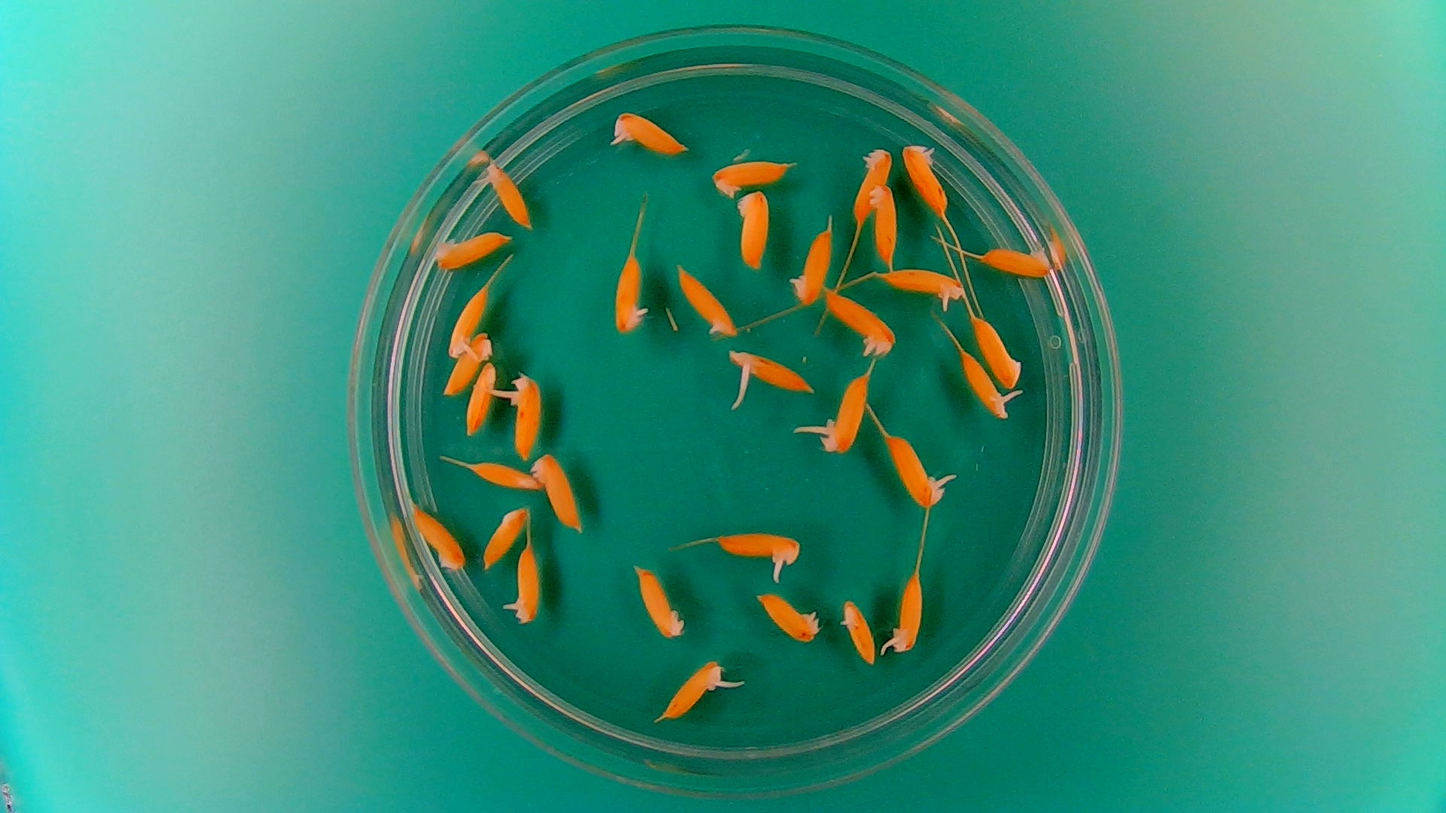no: (674, 260, 741, 339), (531, 447, 587, 532), (630, 560, 688, 642), (409, 499, 468, 571), (969, 312, 1024, 388), (786, 221, 833, 309), (899, 139, 949, 218), (753, 590, 822, 644), (707, 157, 794, 198), (441, 330, 493, 397), (850, 142, 893, 221), (734, 187, 773, 272), (480, 502, 528, 571), (437, 227, 515, 269), (978, 241, 1055, 280), (462, 358, 500, 437), (840, 595, 880, 667), (868, 177, 899, 266), (465, 459, 539, 494)
yes: (822, 287, 898, 358), (817, 367, 872, 455), (883, 430, 944, 508), (877, 265, 968, 311), (956, 349, 1012, 421), (660, 657, 725, 719), (725, 349, 818, 391), (444, 281, 492, 360), (504, 367, 544, 461), (885, 566, 925, 656), (484, 161, 535, 231), (502, 539, 541, 626), (615, 112, 687, 158), (718, 532, 802, 567), (614, 250, 647, 334)
